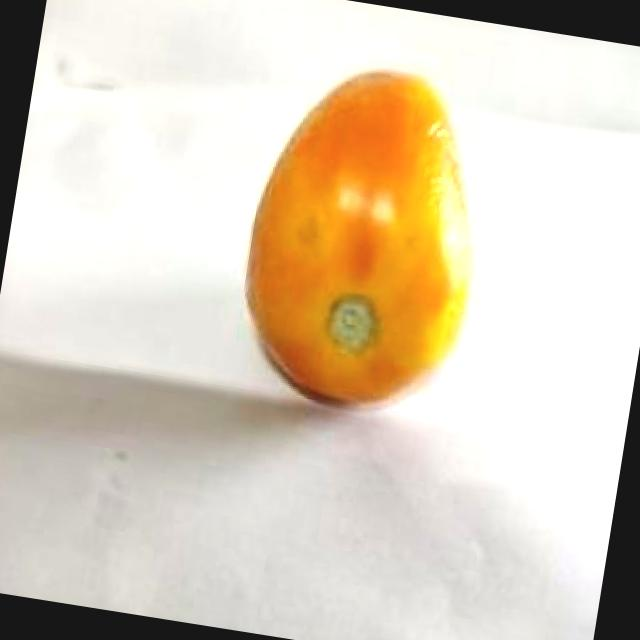Rotten_Tomato: (218, 45, 508, 428)
